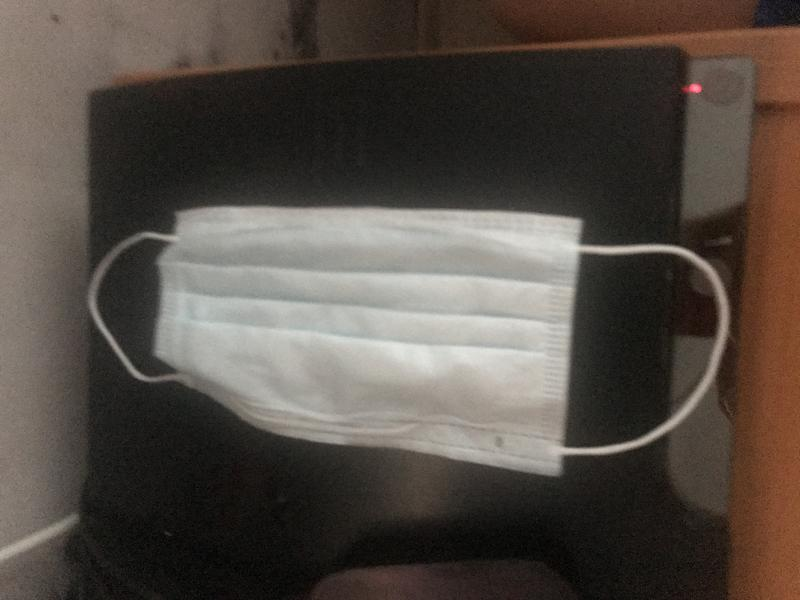medical_mask: (89, 202, 731, 459)
